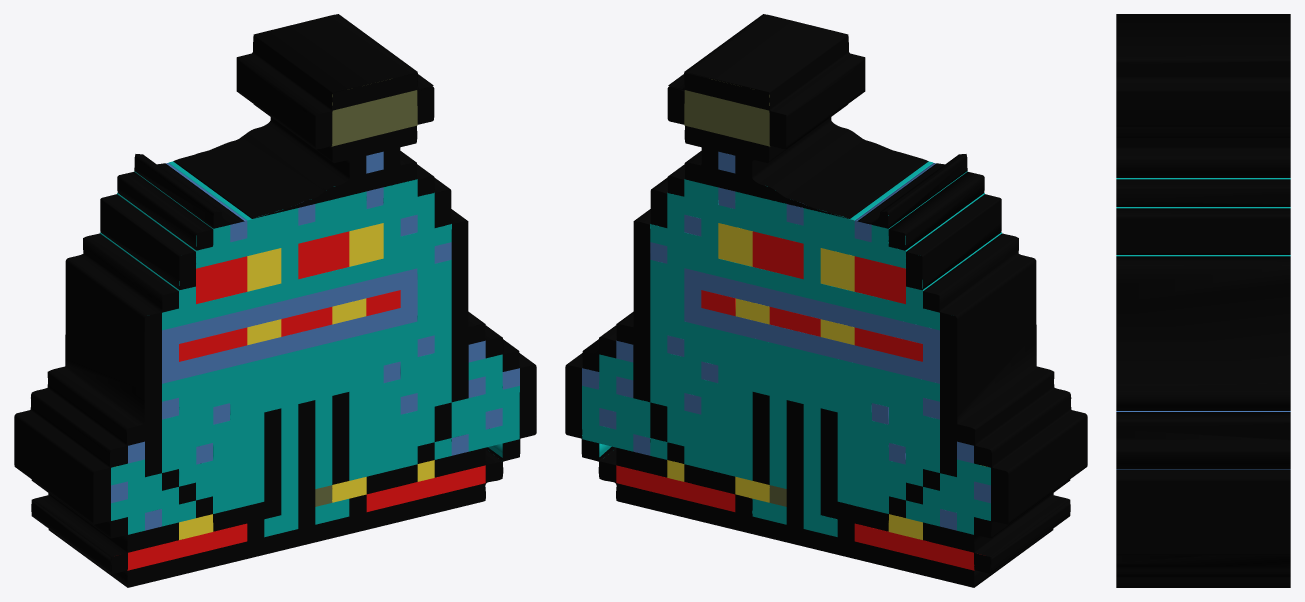
The model's file is Toadz_3935.glb.
3 renders of one model, left to right at view 1: azimuth 30°, elevation 25°; view 2: azimuth 150°, elevation 25°; view 3: azimuth 270°, elevation 25°, orthographic. The views are drawn at different scales.
Visible parts, largest first — view 1: Curve; view 2: Curve; view 3: Curve.
Boxes of the visible parts, box(x1,y1,x2,y2) form: Curve: box(14, 14, 536, 587); Curve: box(565, 14, 1087, 587); Curve: box(1116, 14, 1290, 587).
Bounding box in the file's own units: 3.24 × 3.11 × 1.
